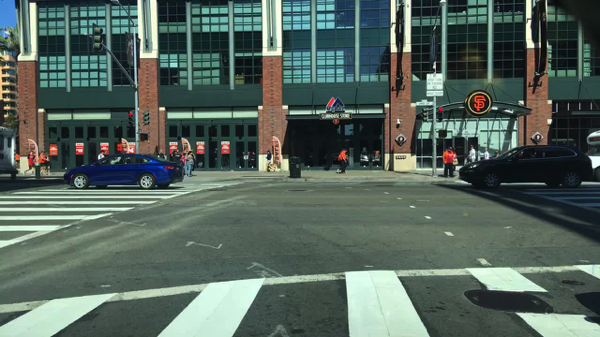bike: (463, 159, 478, 167)
car: (457, 145, 593, 190), (65, 153, 184, 190), (583, 130, 599, 184)
person: (442, 147, 455, 179), (23, 150, 34, 178), (336, 152, 347, 176), (264, 150, 275, 173), (187, 150, 198, 172), (339, 148, 347, 176), (185, 152, 193, 179), (451, 147, 457, 172), (46, 153, 52, 176), (96, 149, 107, 160), (39, 150, 44, 174), (155, 148, 165, 160), (31, 152, 36, 175), (472, 146, 479, 162), (181, 152, 186, 173), (483, 148, 490, 162), (44, 154, 48, 176), (492, 148, 499, 159), (171, 150, 176, 162), (14, 150, 17, 169), (178, 153, 182, 167), (17, 152, 20, 169), (176, 150, 180, 162)
rider: (468, 145, 475, 162)
traffic light: (92, 22, 103, 53), (420, 109, 428, 122), (437, 107, 443, 123), (128, 112, 133, 128), (143, 112, 148, 126)
traffic sign: (425, 73, 442, 90), (426, 90, 443, 98), (415, 100, 434, 105)
